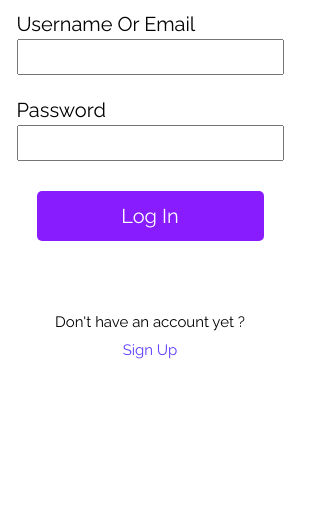
Test: LoginForm › handles wrong inputs properly
In the field labelled "Username or Email": (150, 57) [16, 39, 284, 75], type ".user"
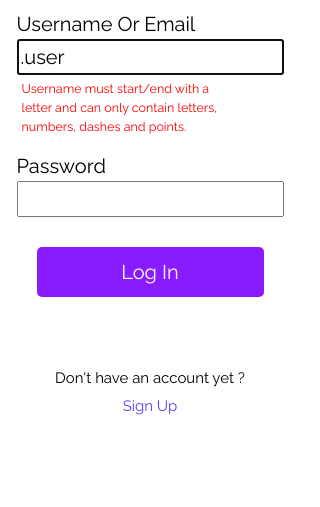
Expected: the text "Username must start/end with a letter and can only contain letters, numbers, dashes and points." is shown, [22, 81, 217, 134]
Replace the text in the field labelled "Username or Email" with "u": (150, 57) [16, 39, 284, 75]
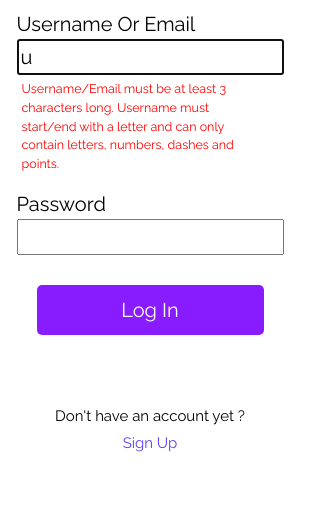
Expected: the text "Username/Email must be at least 3 characters long." is shown, [22, 81, 234, 171]
In the password field labelled "password": (150, 237) [16, 219, 284, 255], type "Wrong"
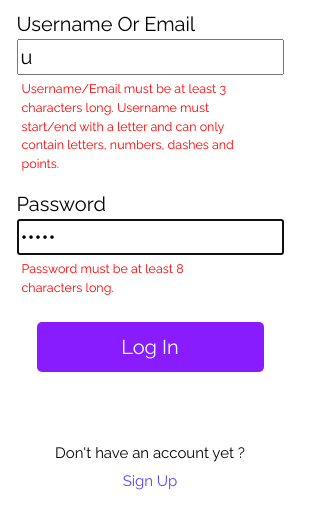
Expected: the text "Password must be at least 8 characters long." is shown, [22, 261, 184, 295]
